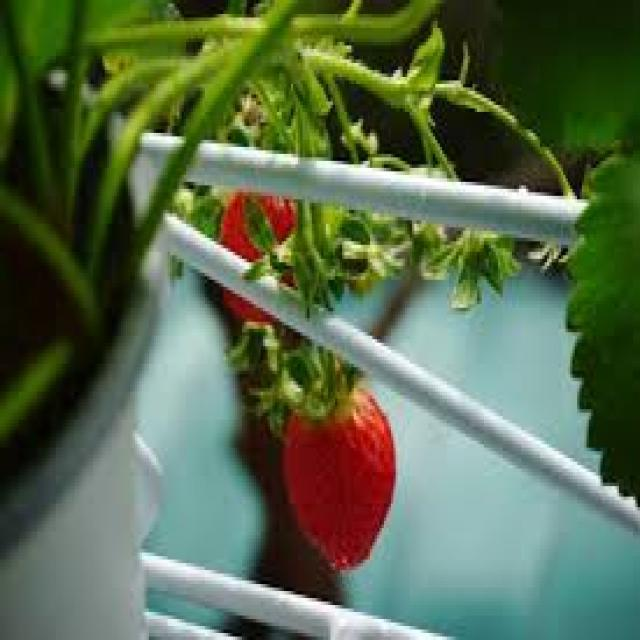straw-ripe: (282, 388, 396, 572)
